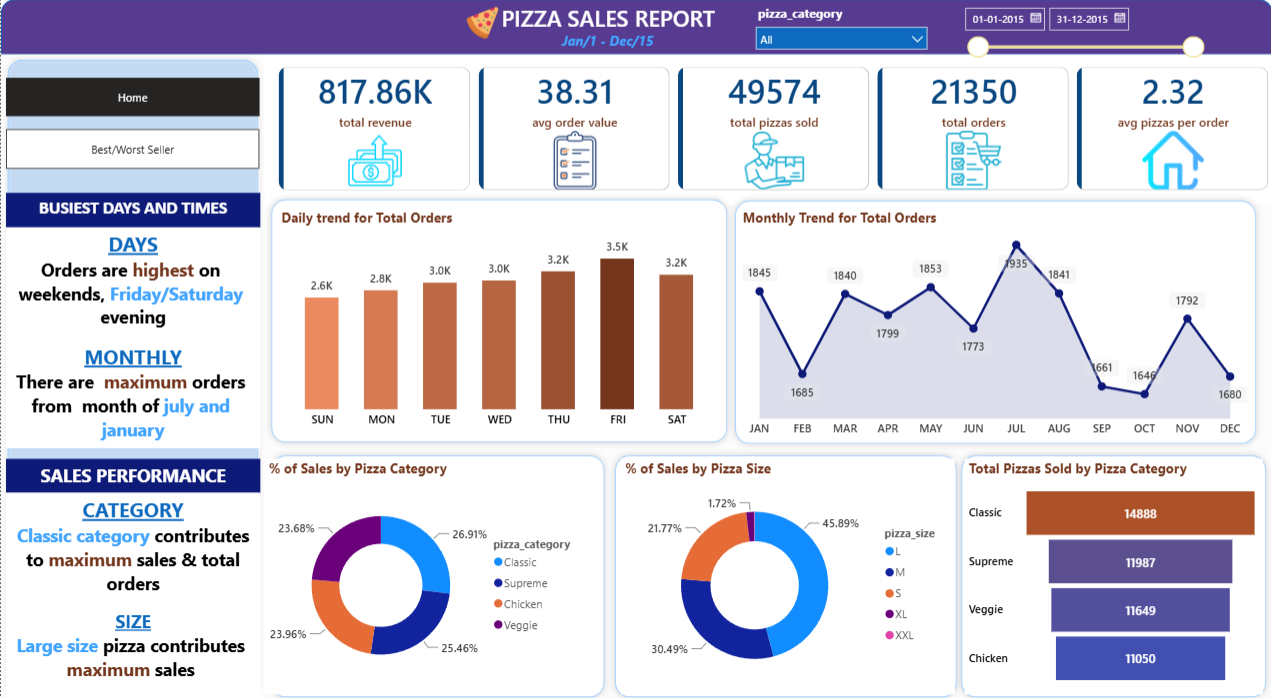

The dashboard page shown, as its layout file describes it:
{"tool":"powerbi","page":{"name":"Home","canvas":[1550,889],"ordinal":0},"visuals":[{"type":"cardVisual","fields":{"Data":["pizza_sales.total revenue","pizza_sales.avg order value","pizza_sales.total pizzas sold","pizza_sales.total orders","pizza_sales.avg pizzas per order"]},"box":[318.8,86,1230.6,183.9],"z":0},{"type":"shape","box":[0,20.8,1536.1,66.7],"z":1000},{"type":"textbox","box":[575.2,20.9,316.1,51.5],"z":2000},{"type":"textbox","box":[625.3,54.3,215.9,40.4],"z":3000},{"type":"image","box":[561.2,27.9,40.4,44.6],"z":4000},{"type":"shape","box":[318.8,255,566.4,309.9],"z":5000},{"type":"columnChart","title":"Daily trend for Total Orders","fields":{"Y":["pizza_sales.total orders"],"Category":["pizza_sales.order day"]},"box":[333.6,272.8,538.2,275.8],"z":6000},{"type":"shape","box":[879.2,256.5,645,309.9],"z":7000},{"type":"areaChart","title":"Monthly Trend for Total Orders","fields":{"Category":["pizza_sales.order month"],"Y":["pizza_sales.total orders"]},"box":[891.1,272.8,619.8,286.2],"z":8000},{"type":"shape","box":[318.8,564.9,418.1,308.4],"z":9000},{"type":"shape","box":[733.9,564.9,428.5,308.4],"z":10000},{"type":"shape","box":[1152,564.9,384,308.4],"z":11000},{"type":"donutChart","title":"%  of Sales by Pizza Category","fields":{"Category":["pizza_sales.pizza_category"],"Y":["pizza_sales.total revenue"]},"box":[318.8,576.8,389.9,284.7],"z":12000},{"type":"donutChart","title":"%  of Sales by Pizza Size","fields":{"Y":["pizza_sales.total revenue"],"Category":["pizza_sales.pizza_size"]},"box":[748.8,576.8,403.3,284.7],"z":13000},{"type":"funnel","title":"Total Pizzas Sold by Pizza Category","fields":{"Category":["pizza_sales.pizza_category"],"Y":["pizza_sales.total pizzas sold"]},"box":[1163.9,576.8,360.3,284.7],"z":14000},{"type":"shape","box":[0,86,318.8,787.3],"z":15000},{"type":"textbox","box":[5.9,576.8,306.9,41.5],"z":16000},{"type":"textbox","box":[5.9,296.5,306.9,268.4],"z":17000},{"type":"textbox","box":[5.9,255,306.9,41.5],"z":18000},{"type":"textbox","box":[5.9,618.3,306.9,255],"z":19000},{"type":"slicer","fields":{"Values":["pizza_sales.pizza_category"]},"box":[901.4,22.6,228,64.9],"z":20000},{"type":"slicer","fields":{"Values":["pizza_sales.order_date"]},"box":[1152,21.1,309.5,74],"z":21000},{"type":"pageNavigator","box":[6.7,116.7,306.7,46.7],"z":21001},{"type":"pageNavigator","box":[6.7,178.3,306.7,48.3],"z":21002}]}

Visuals, with their boxes on the page's 1550x889 design canvas (x1, y1, x2, y2). These are canvas units, not pixel positions in the 1271x698 screenshot, which may show the page scaled, cropped or inside an application window:
cardVisual - pizza_sales.total revenue x pizza_sales.avg order value: 319:86:1549:270
shape: 0:21:1536:88
textbox: 575:21:891:72
textbox: 625:54:841:95
image: 561:28:602:72
shape: 319:255:885:565
"Daily trend for Total Orders" columnChart: 334:273:872:549
shape: 879:256:1524:566
"Monthly Trend for Total Orders" areaChart: 891:273:1511:559
shape: 319:565:737:873
shape: 734:565:1162:873
shape: 1152:565:1536:873
"%  of Sales by Pizza Category" donutChart: 319:577:709:862
"%  of Sales by Pizza Size" donutChart: 749:577:1152:862
"Total Pizzas Sold by Pizza Category" funnel: 1164:577:1524:862
shape: 0:86:319:873
textbox: 6:577:313:618
textbox: 6:296:313:565
textbox: 6:255:313:296
textbox: 6:618:313:873
slicer - pizza_sales.pizza_category: 901:23:1129:88
slicer - pizza_sales.order_date: 1152:21:1462:95
pageNavigator: 7:117:313:163
pageNavigator: 7:178:313:227
